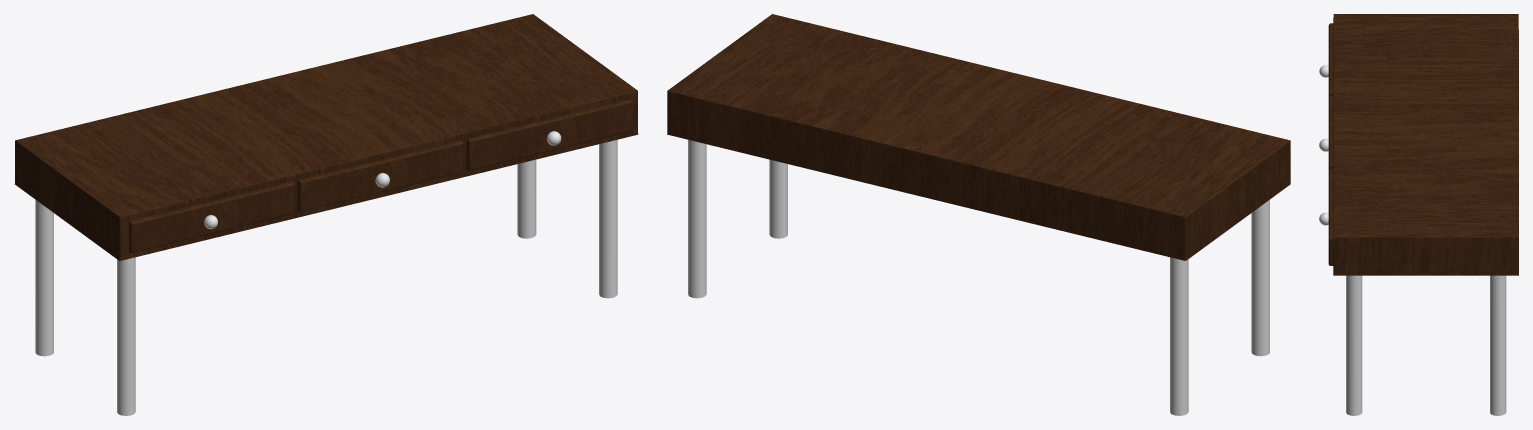
The model's file is table.gltf.
The picture shows the model from 3 angles, left to right: view 1: azimuth 30°, elevation 25°; view 2: azimuth 150°, elevation 25°; view 3: azimuth 270°, elevation 25°; orthographic projection. The views are drawn at different scales.
Parts seen in each view (by area): view 1: table, Plane.002, legs; view 2: table, legs; view 3: table, legs, Plane.002.
Part boxes in pixels (<box>): table: <box>14,14,638,260</box>; Plane.002: <box>129,99,632,252</box>; legs: <box>35,139,617,415</box>; table: <box>667,14,1290,260</box>; legs: <box>688,139,1269,415</box>; table: <box>1333,14,1518,275</box>; legs: <box>1346,275,1506,415</box>; Plane.002: <box>1328,23,1333,265</box>.
Bounding box in the file's own units: 3.7 × 1.42 × 1.4.
Materials: 2 (1 with a texture image).
